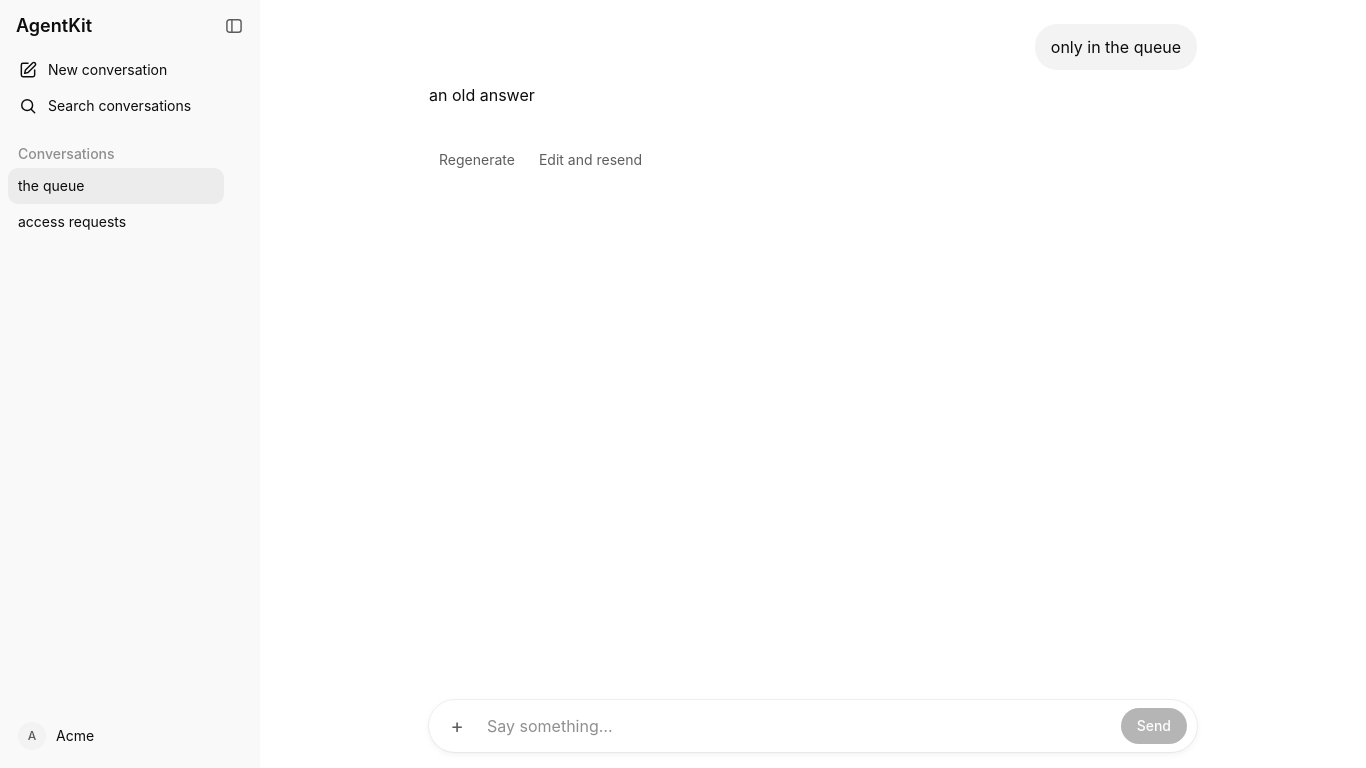
Test: threads end to end › shows nothing of the previous conversation`s transcript after a switch
Expected: the text "only in the queue" is shown, [1035, 24, 1197, 70]
Click the button "access requests". click: point(116, 222)
box: [8, 204, 224, 240]
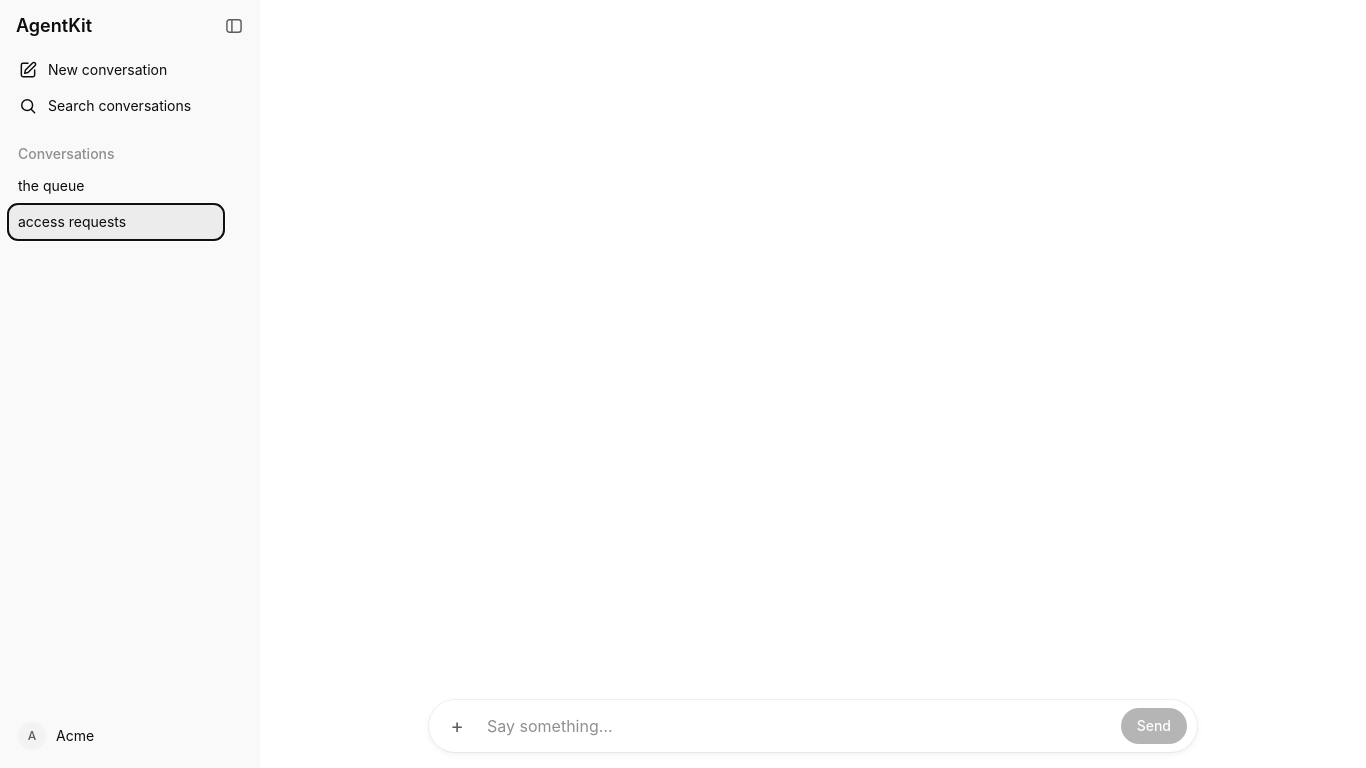
Expected: the text "only in the queue" is gone
